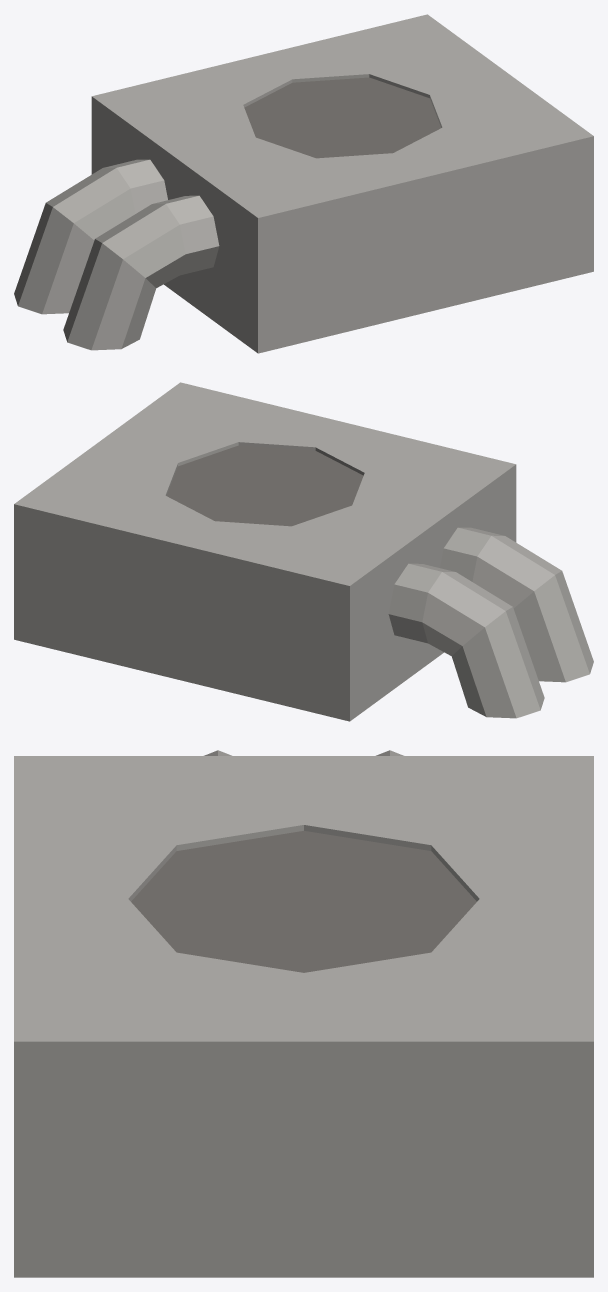
The model's file is HousePart_02.fbx.
The picture shows the model from 3 angles, top to bottom: view 1: azimuth 30°, elevation 25°; view 2: azimuth 150°, elevation 25°; view 3: azimuth 270°, elevation 25°; orthographic projection. The views are drawn at different scales.
Visible parts, largest first — view 1: HousePart_02; view 2: HousePart_02; view 3: HousePart_02.
Boxes of the visible parts, left/top/right/bottom form: HousePart_02: left=14, top=14, right=593, bottom=353; HousePart_02: left=14, top=382, right=593, bottom=721; HousePart_02: left=14, top=750, right=593, bottom=1277.
Bounding box in the file's own units: 3.25 × 0.9032 × 2.
